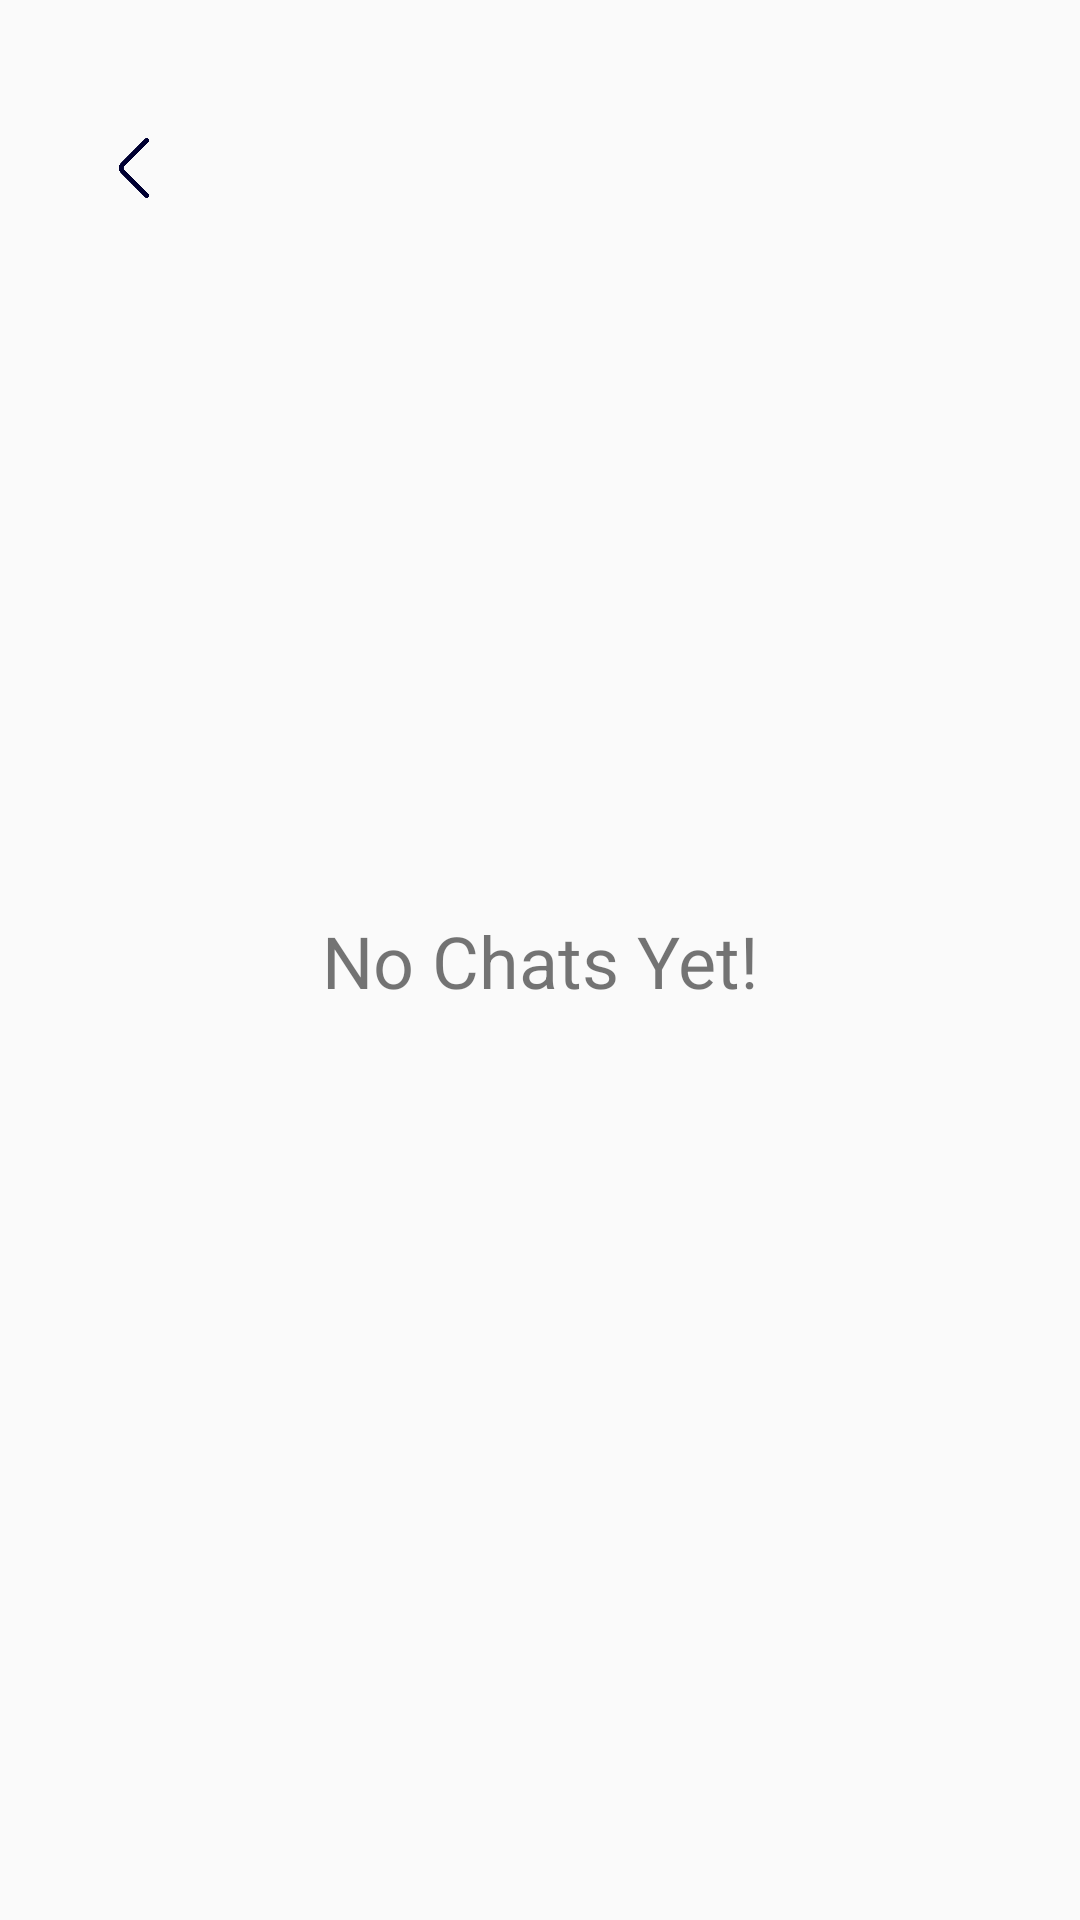

Where icons sit on this 1080w x 1920h app screen, as (x1, y1, x2, y2):
leftarrow: (119, 138, 149, 198)
